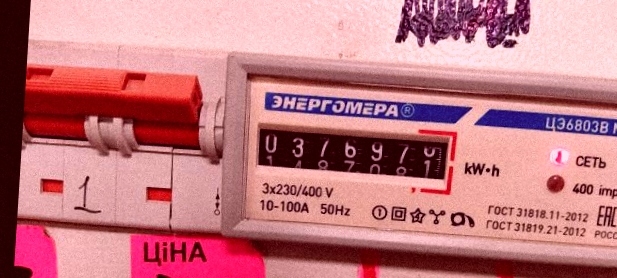0: (262, 130, 278, 153)
1: (419, 157, 432, 177)
3: (289, 135, 305, 157)
6: (341, 134, 358, 158)
7: (314, 133, 331, 157), (395, 140, 410, 164)
9: (367, 137, 383, 161)
screen: (244, 112, 459, 198)
